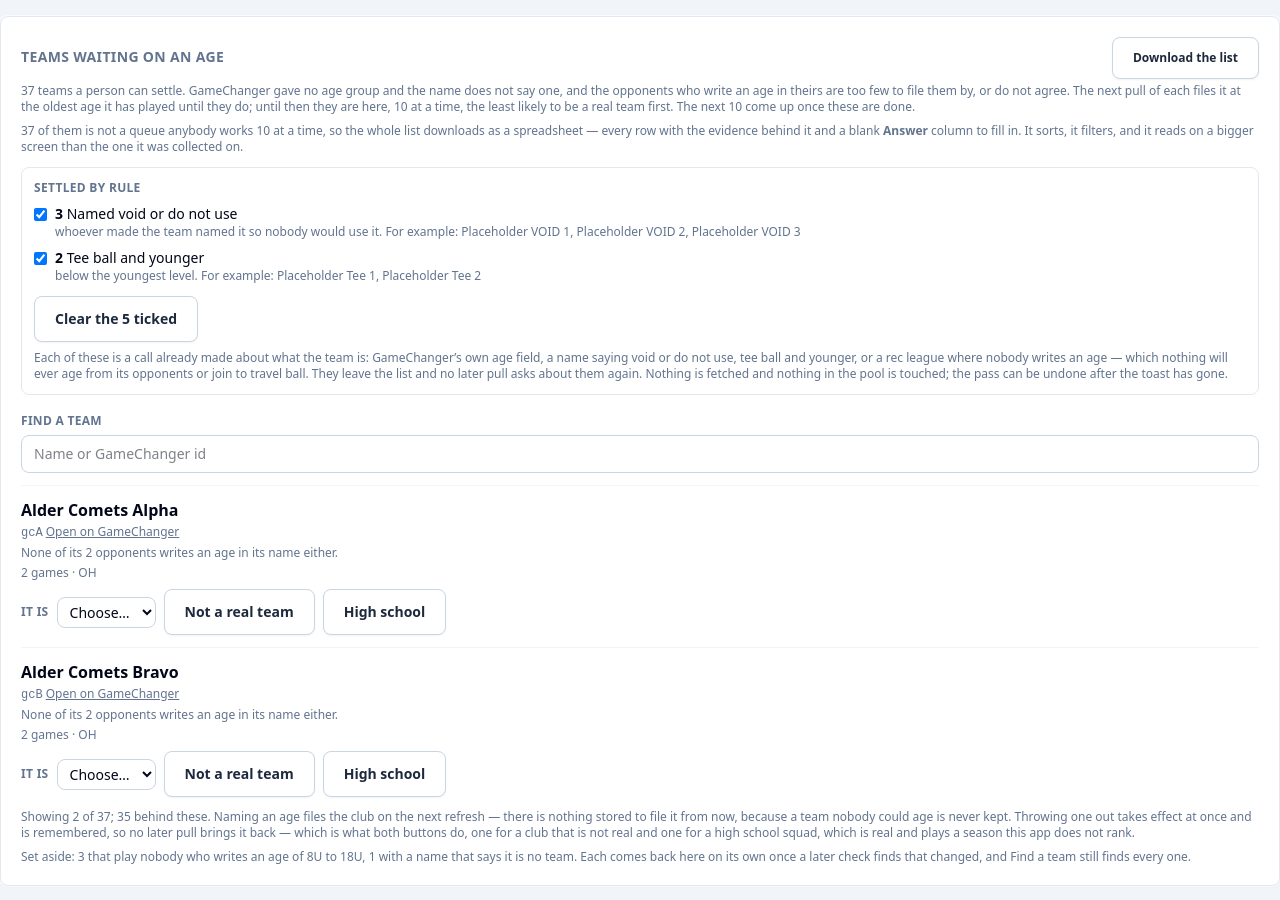
Test: the answers, sent as edits › draws a search's answer only under the words it was asked for
This screenshot has width=1280, height=900.
Type "november" into the search field with placeholder "Name or GameChanger id".
click(640, 454); type("november")  # box [21, 435, 1259, 473]
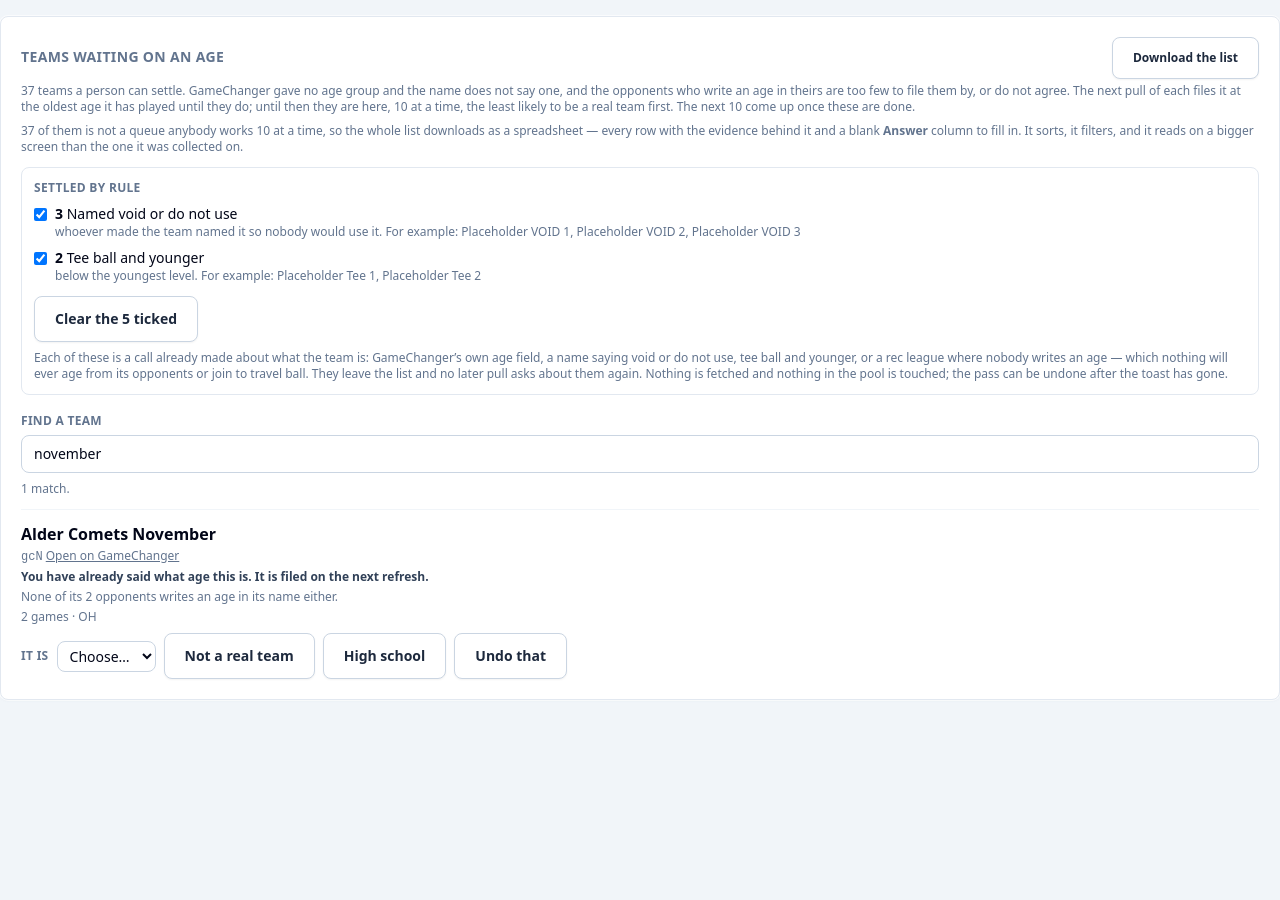
Other words typed: the last answer goes until theirs is in.
Replace the text in the search field with placeholder "Name or GameChanger id" with "oscar" at coordinates (640, 454), box [21, 435, 1259, 473]
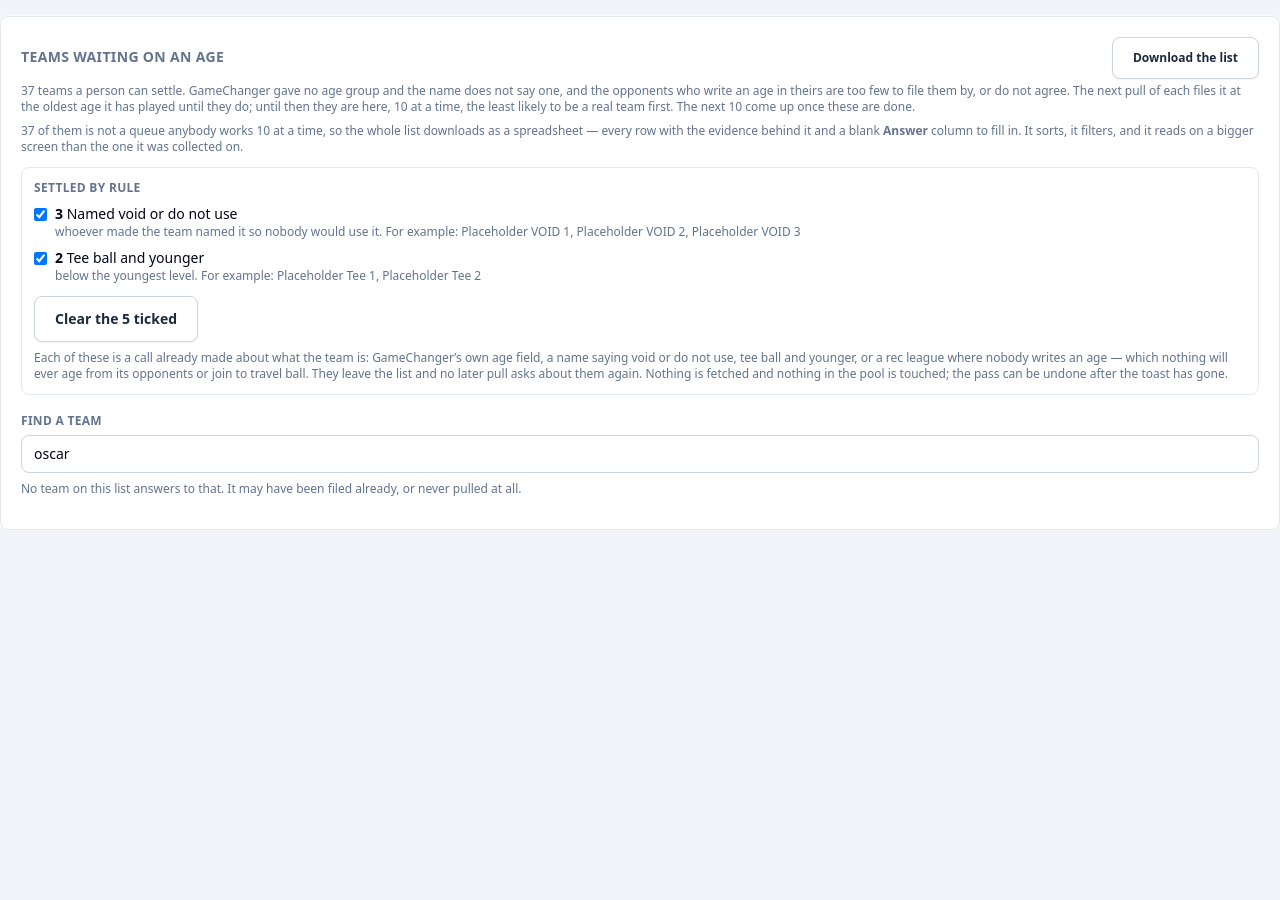
Expected: the text "Alder Comets November" is gone
